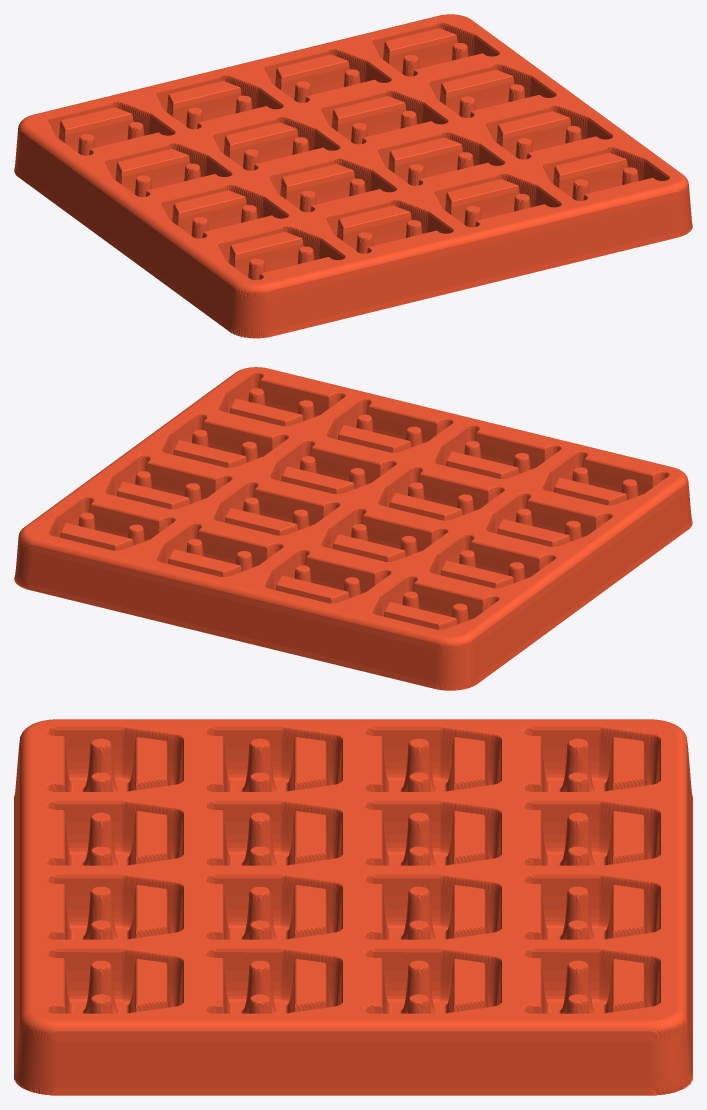
File: mold.glb
3 views of the same model, one above another, from view 1: azimuth 30°, elevation 25°; view 2: azimuth 150°, elevation 25°; view 3: azimuth 270°, elevation 25° (orthographic). The views are drawn at different scales.
Parts seen in each view (by area): view 1: geometry_0; view 2: geometry_0; view 3: geometry_0.
Boxes of the visible parts, box(x1,y1,x2,y2) form: geometry_0: box(14, 14, 692, 338); geometry_0: box(14, 367, 692, 690); geometry_0: box(14, 719, 692, 1095).
Bounding box in the file's own units: 0.1569 × 0.0159 × 0.1434.
